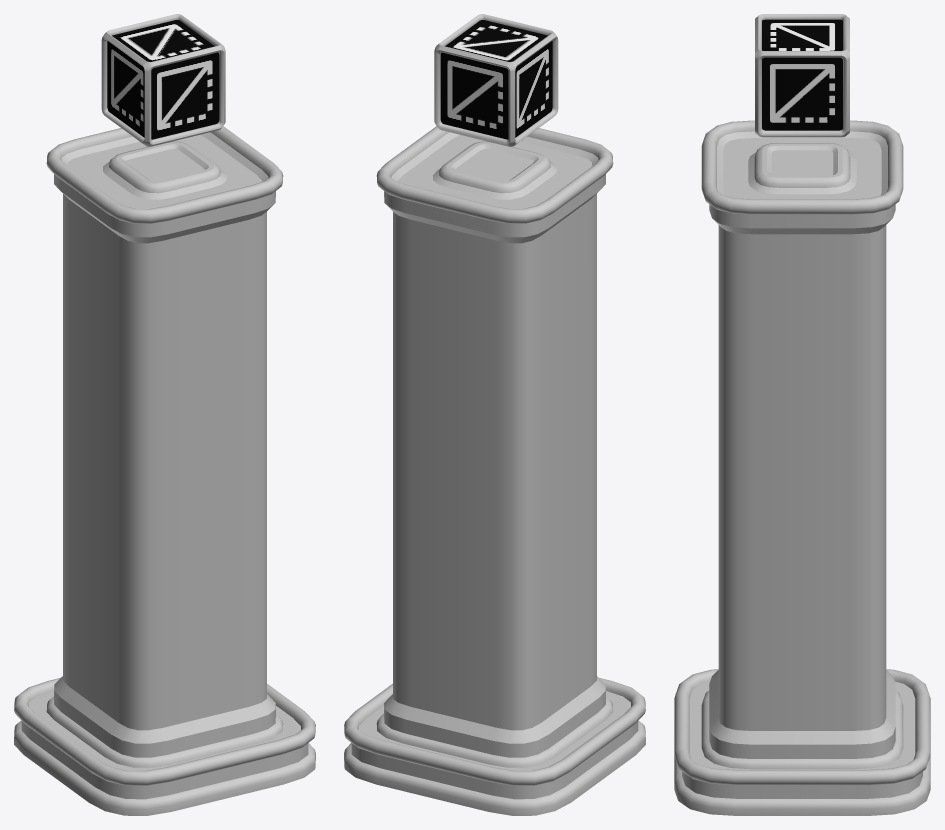
The model's file is FancyButton.FBX.
The picture shows the model from 3 angles, left to right: view 1: azimuth 30°, elevation 25°; view 2: azimuth 150°, elevation 25°; view 3: azimuth 270°, elevation 25°; orthographic projection.
Visible parts, largest first — view 1: FancyButtonBase, FancyButtonButton; view 2: FancyButtonBase, FancyButtonButton; view 3: FancyButtonBase, FancyButtonButton.
Boxes of the visible parts, x1,y1,x2,y2 form: FancyButtonBase: (14,126,315,815); FancyButtonButton: (101,14,225,146); FancyButtonBase: (344,126,645,815); FancyButtonButton: (434,14,558,146); FancyButtonBase: (674,120,930,815); FancyButtonButton: (755,14,849,137).
Size of the model in its own units: 0.3551 by 1.11 by 0.3551.
